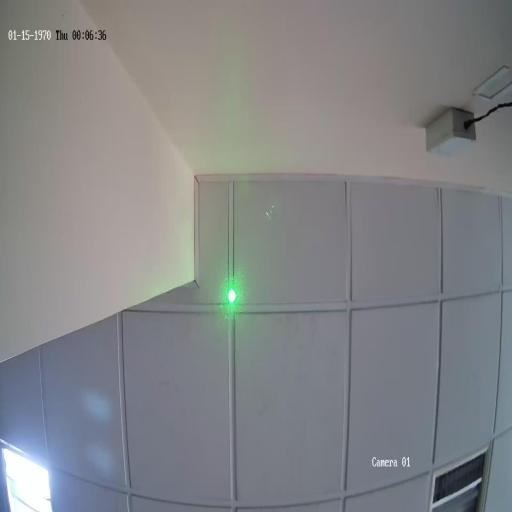laser: (226, 284, 238, 307)
